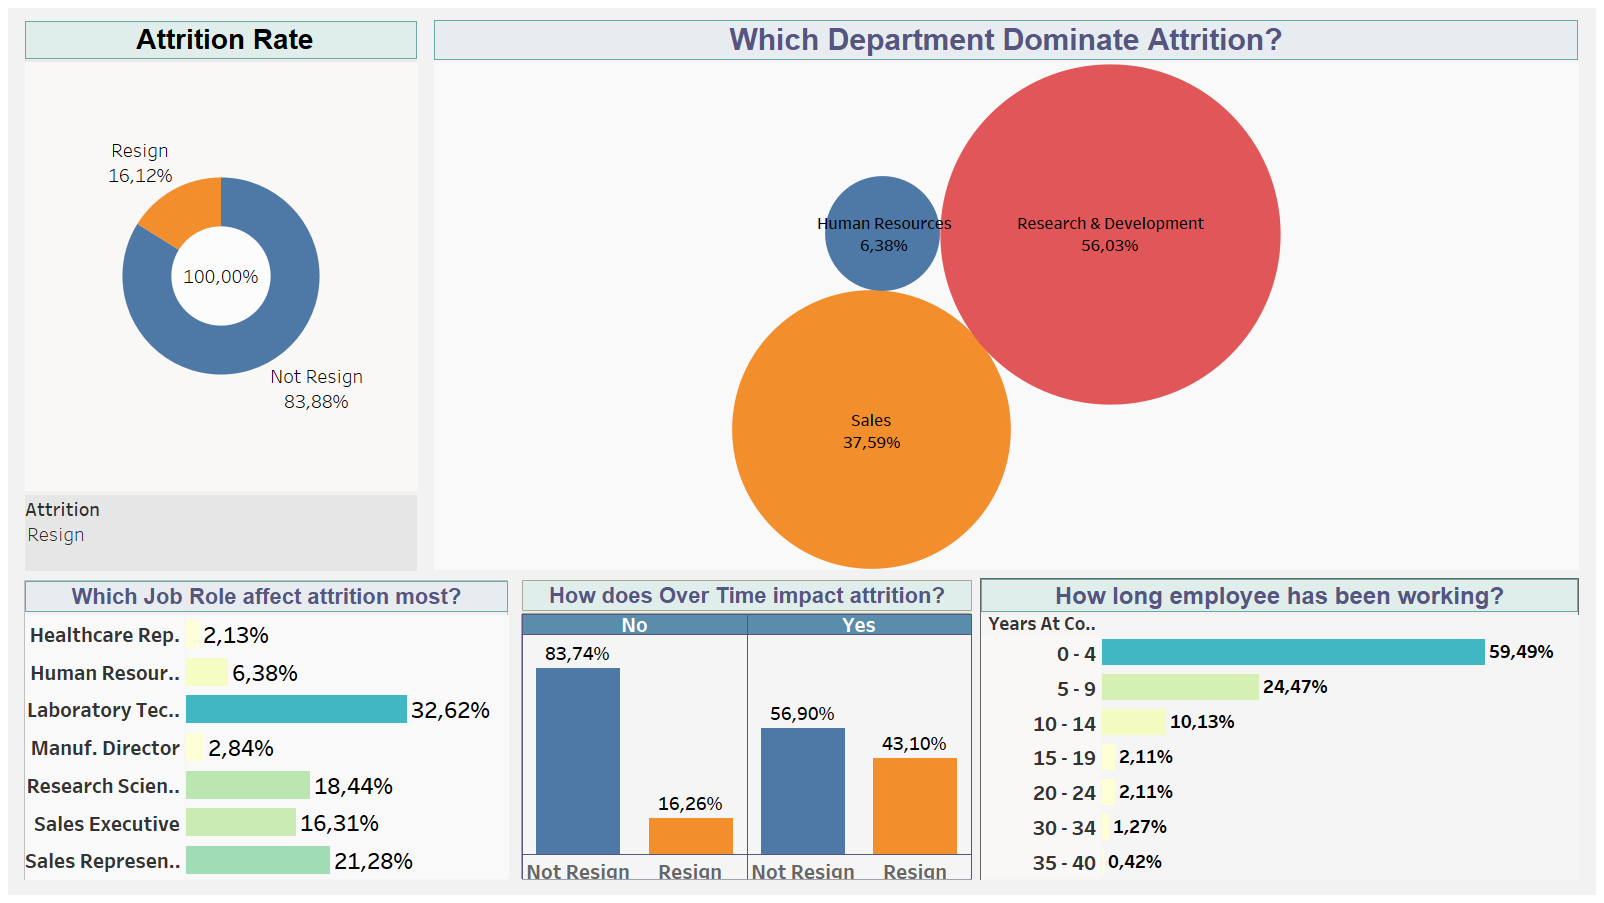

What the dashboard file says about the page in this screenshot:
{"tool":"tableau","page":{"name":"Dashboard_general","canvas":[1000,1000],"units":"permille","ordinal":3},"visuals":[{"type":"worksheet","title":"General_dept","mark":"Circle","box":[270.5,22.2,713,608]},{"type":"worksheet","title":"General_att","mark":"Pie","rows":["EmployeeCount","EmployeeCount"],"box":[15.6,22.9,244.2,519.3]},{"type":"filter","title":"General_dept","param":"[federated.0cw0afy1n3x3ps108bnmo1yaweov].[none:Attrition:nk]","box":[15.6,547.9,244.7,84.4]},{"type":"worksheet","title":"General_year","mark":"Automatic","cols":["EmployeeCount"],"box":[611.3,640.2,373.2,334.5]},{"type":"worksheet","title":"General_jobrole","mark":"Automatic","rows":["JobRole"],"cols":["EmployeeCount"],"box":[14.7,641.9,302.2,332.8]},{"type":"worksheet","title":"Sheet 19","mark":"Automatic","cols":["OverTime","Attrition"],"box":[325.5,641.9,280.5,332.8]}]}

Visuals, with their boxes on the dashboard's canvas, which has no fixed pixel size, in thousandths of its width and height (x1, y1, x2, y2). These are canvas units, not pixel positions in the 1604x903 screenshot, which may show the page scaled, cropped or inside an application window:
"General_dept" worksheet (Circle marks): 270:22:984:630
"General_att" worksheet (Pie marks): 16:23:260:542
"General_dept" filter: 16:548:260:632
"General_year" worksheet: 611:640:984:975
"General_jobrole" worksheet: 15:642:317:975
"Sheet 19" worksheet: 326:642:606:975
